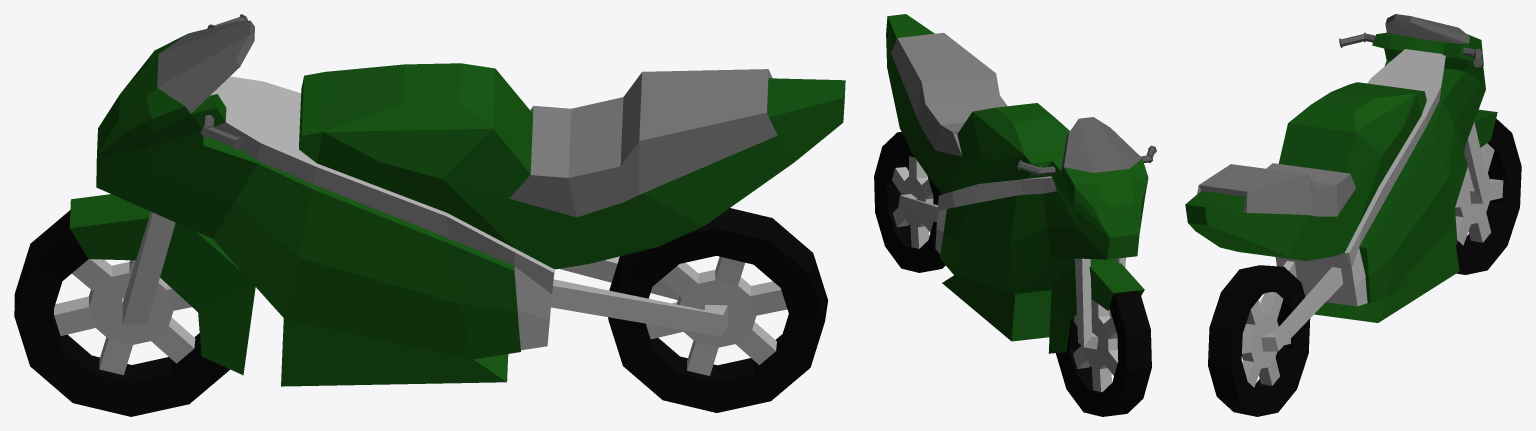
Rendered from Motorcycle Green.fbx.
3 renders of one model, left to right at view 1: azimuth 30°, elevation 25°; view 2: azimuth 150°, elevation 25°; view 3: azimuth 270°, elevation 25°, orthographic. The views are drawn at different scales.
Visible parts, largest first — view 1: Motorcycle Green; view 2: Motorcycle Green; view 3: Motorcycle Green.
Part boxes in pixels (x1,y1,x2,y2): Motorcycle Green: [14, 14, 845, 416]; Motorcycle Green: [874, 14, 1156, 416]; Motorcycle Green: [1185, 14, 1521, 416].
Size of the model in its own units: 254 by 172 by 157.
